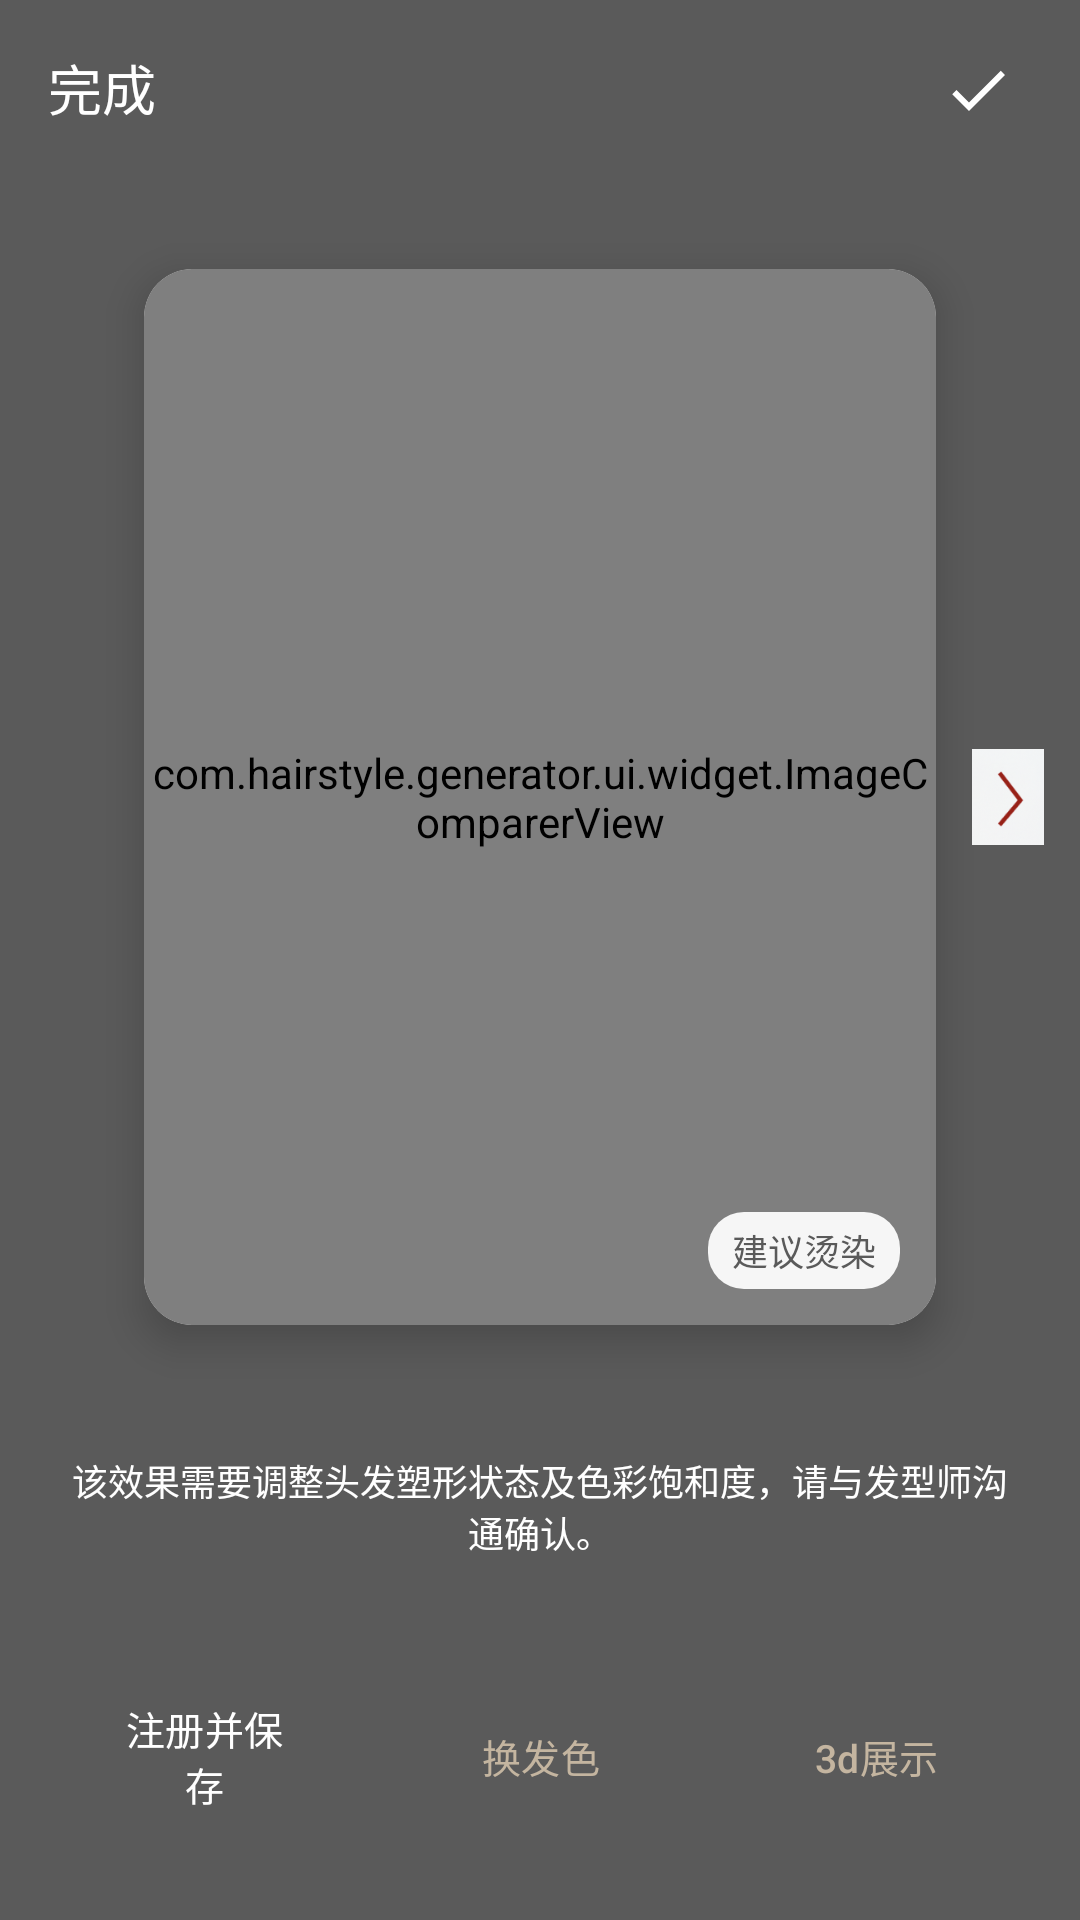

Named icons in this screenshot (1080w x 1920h) and their centers, (x,y):
check: (978,91)
next: (1008,797)
